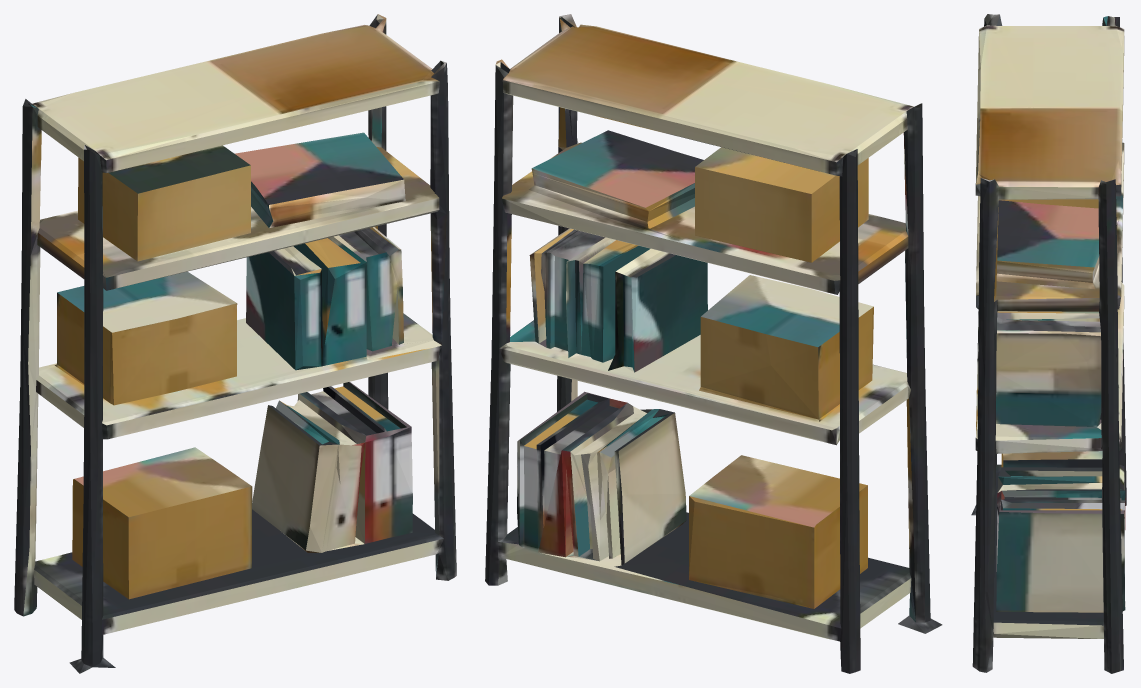
The model's file is shelf.glb.
The picture shows the model from 3 angles, left to right: view 1: azimuth 30°, elevation 25°; view 2: azimuth 150°, elevation 25°; view 3: azimuth 270°, elevation 25°; orthographic projection. The views are drawn at different scales.
Parts seen in each view (by area): view 1: figure; view 2: figure; view 3: figure.
Boxes of the visible parts, left/top/right/bottom form: figure: left=14, top=14, right=456, bottom=673; figure: left=485, top=14, right=942, bottom=673; figure: left=971, top=14, right=1126, bottom=673.
Size of the model in its own units: 0.7698 by 1 by 0.2858.
Materials: 1 (1 with a texture image).
